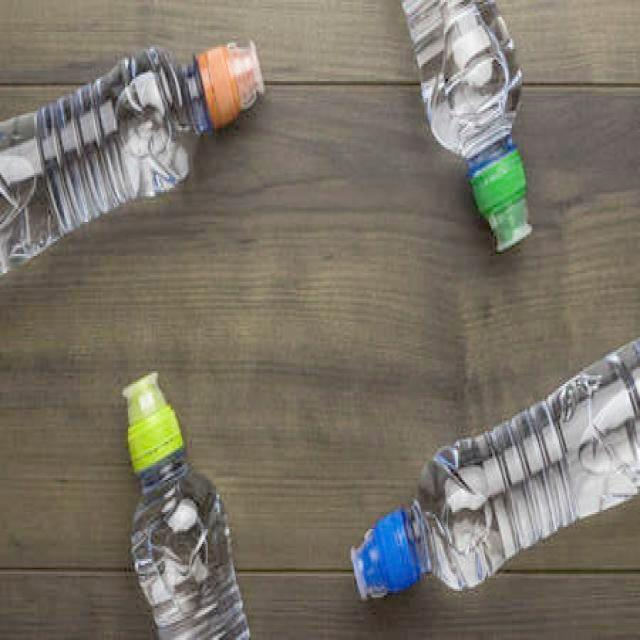bottle: (351, 338, 640, 602), (0, 39, 266, 278), (122, 371, 251, 640), (398, 0, 533, 252)
